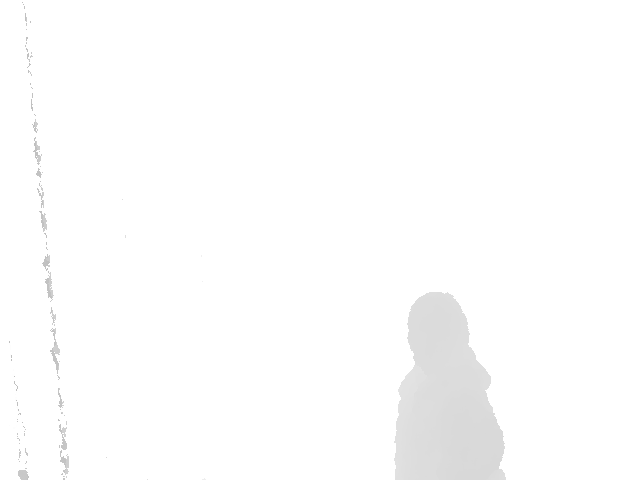head: (405, 292, 470, 376)
person: (394, 292, 509, 480)
